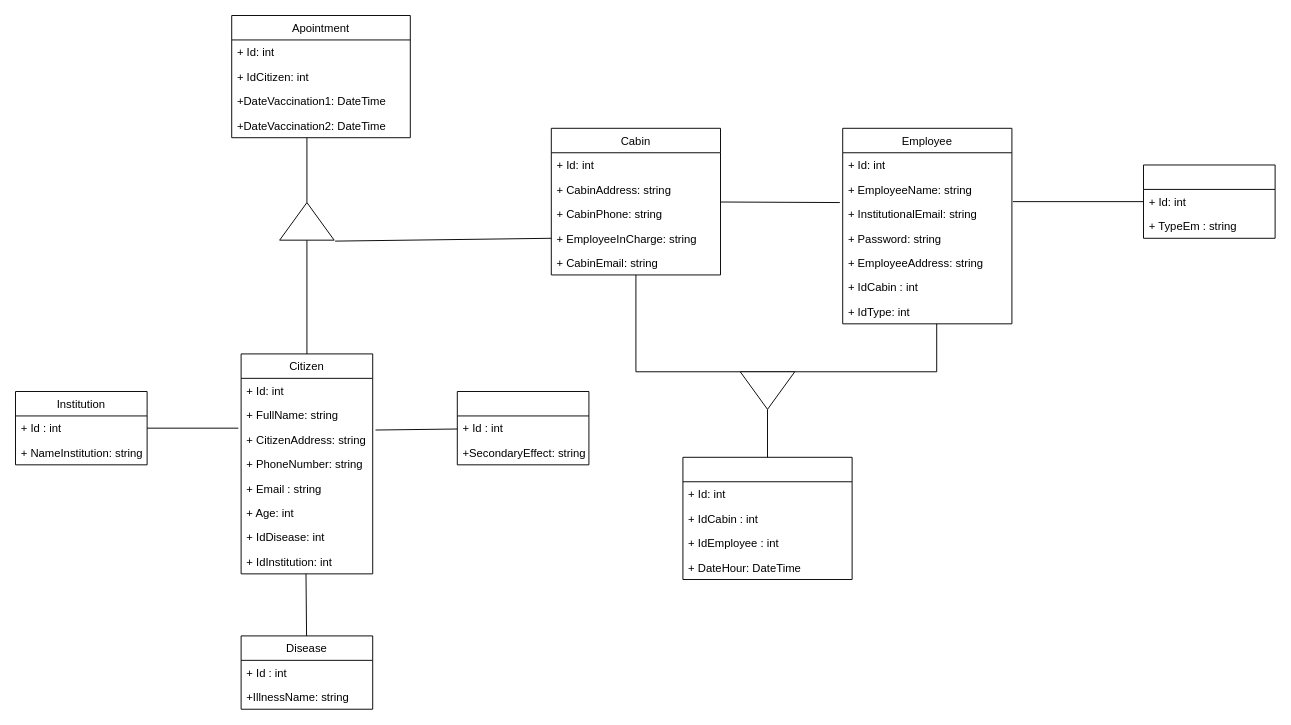
Image size: 1291x725. Some labels were removed from this diagram. Each missing label, with the box of its shape:
EmployeeType: (1143, 164, 1275, 238)
Sesion: (682, 456, 852, 580)
SideEffect: (456, 391, 589, 465)
